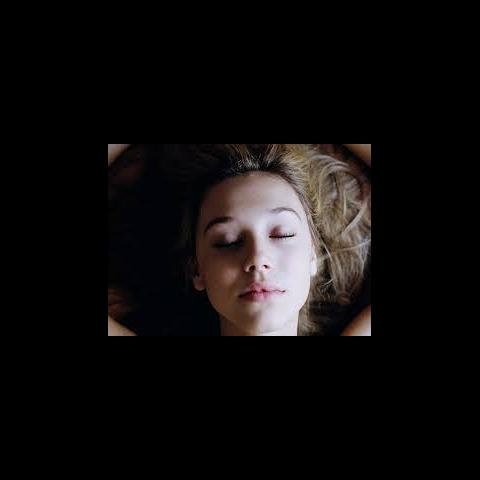closed: (198, 206, 313, 255)
